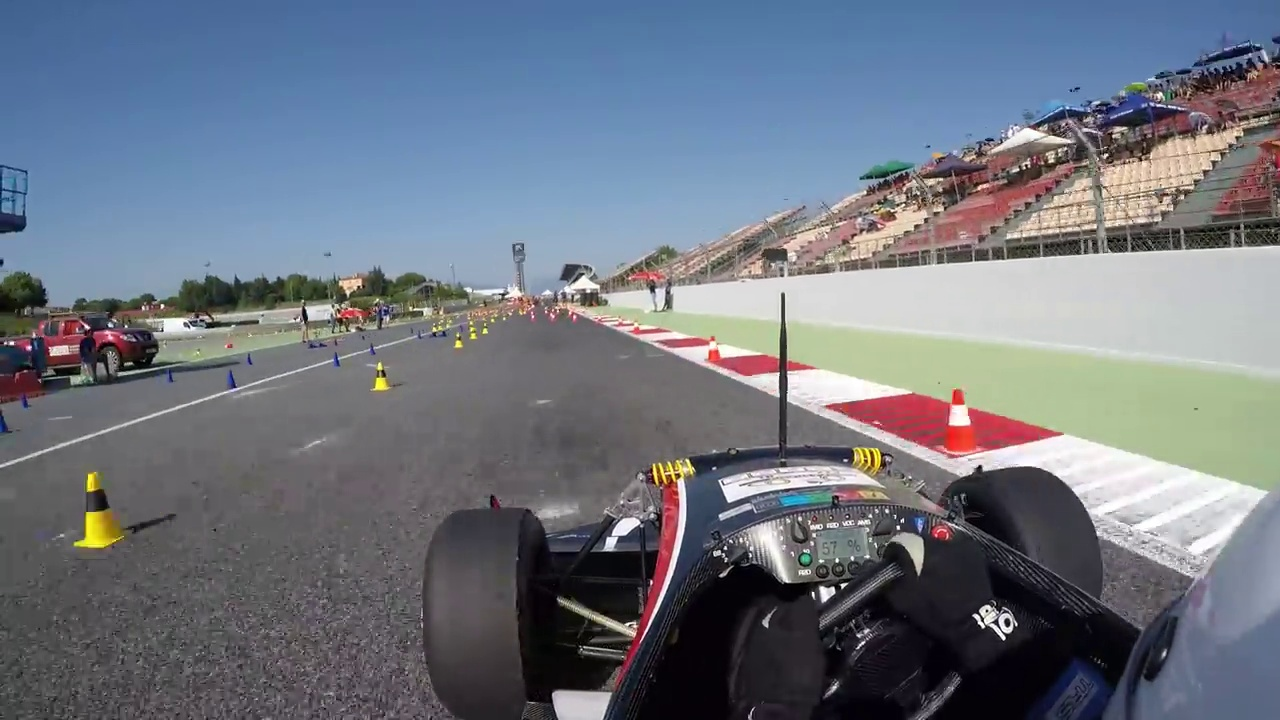Cone: (77, 466, 131, 552), (935, 384, 984, 456), (371, 357, 394, 394)
